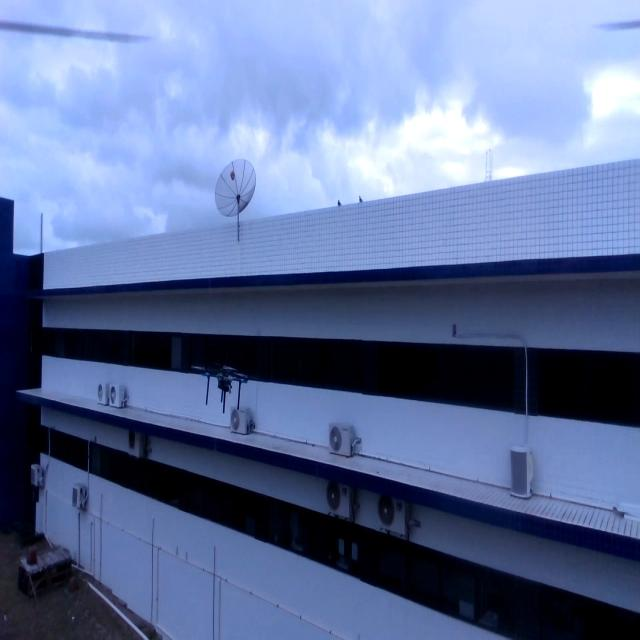-uav-: (184, 338, 258, 428)
